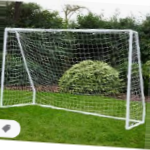goals: (1, 24, 150, 130)
